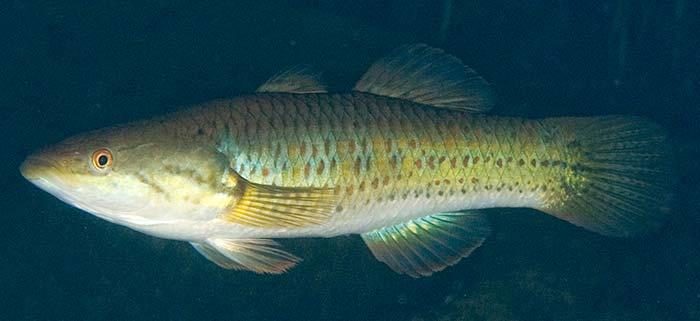Goby: (27, 42, 678, 279)
